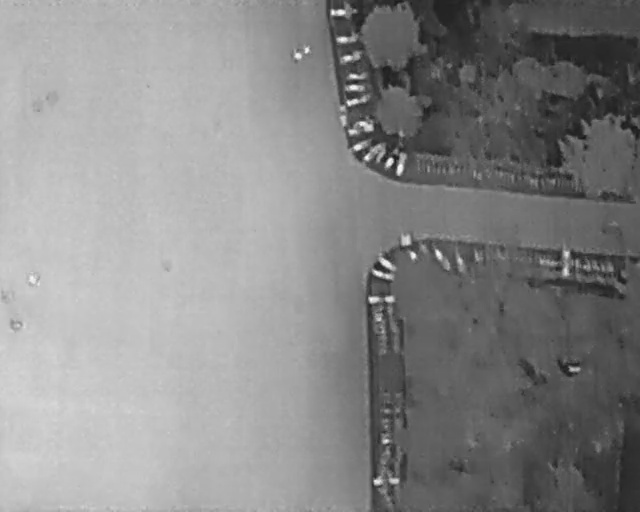Bicycle: (360, 138, 388, 165), (431, 244, 453, 271), (374, 253, 402, 274), (337, 47, 366, 67), (343, 91, 375, 109), (381, 145, 401, 172), (369, 266, 397, 284), (351, 135, 378, 153), (394, 150, 407, 177), (367, 294, 396, 303), (328, 8, 356, 17), (336, 32, 361, 42), (345, 83, 372, 92), (347, 71, 372, 80)
Person: (29, 272, 41, 287), (293, 47, 302, 63), (302, 42, 311, 53)
